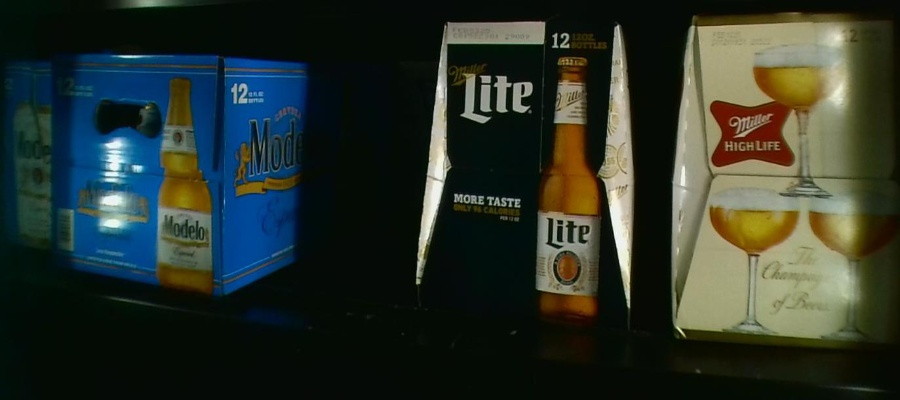bottle: (680, 13, 900, 352), (8, 57, 297, 294), (425, 16, 636, 324)
